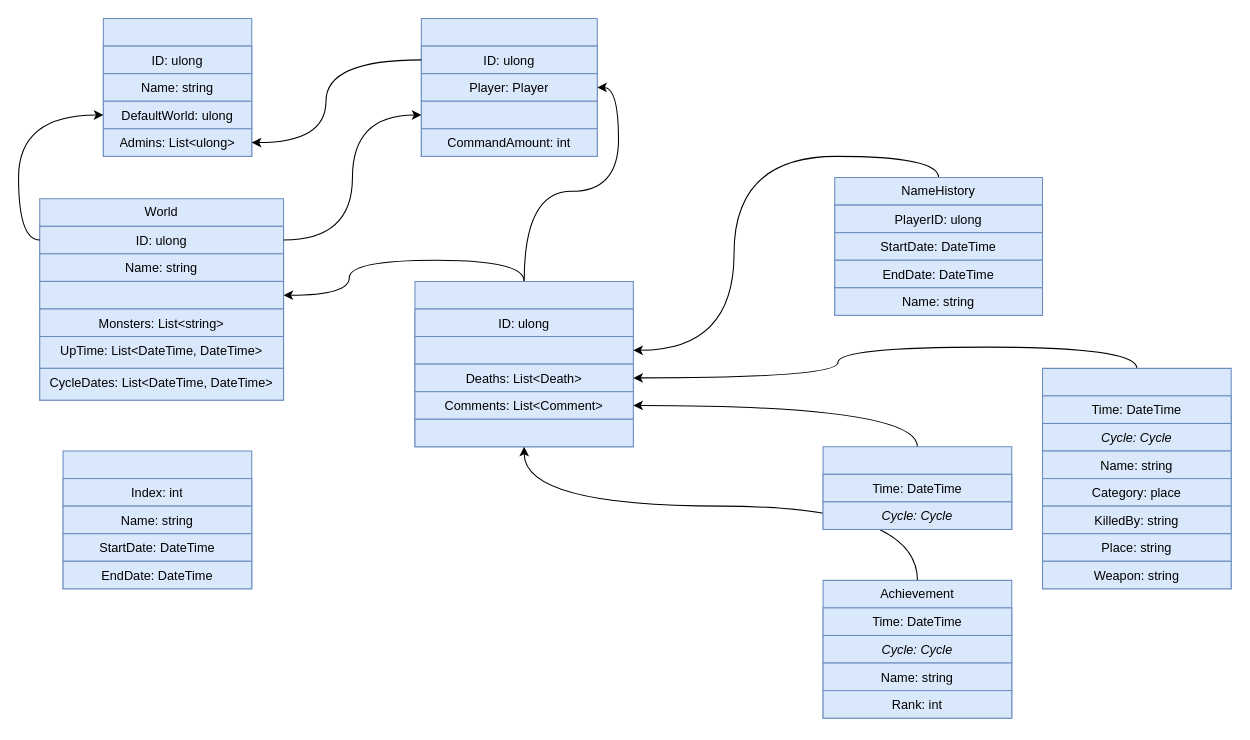
Image size: 1250x740. Some labels were removed from this diagram. The box of each missing label's shape, as (x1, y1, x2, y2) in pixels:
Achievements: List<Achievement>: (414, 418, 633, 447)
Comment: (822, 446, 1012, 529)
Cycle: (62, 450, 252, 589)
Death: (1041, 367, 1231, 589)
Guild: (102, 17, 252, 156)
Names: List<NameHistory>: (414, 335, 633, 364)
Player: (414, 280, 633, 447)
Players: List<Player>: (39, 280, 284, 309)
Selected World: ulong: (420, 100, 597, 129)
User: (420, 17, 597, 156)
